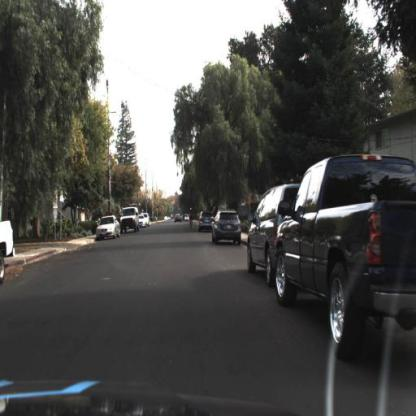biker: (188, 204, 195, 234)
car: (275, 153, 416, 365), (245, 182, 300, 294), (210, 204, 242, 249), (92, 212, 122, 242), (119, 202, 141, 235), (198, 208, 216, 237), (138, 214, 149, 231)
